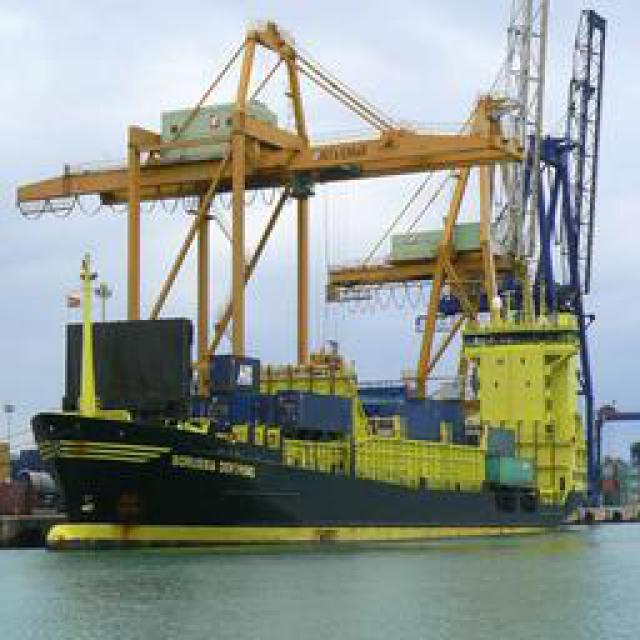Ship: (9, 15, 589, 560)
